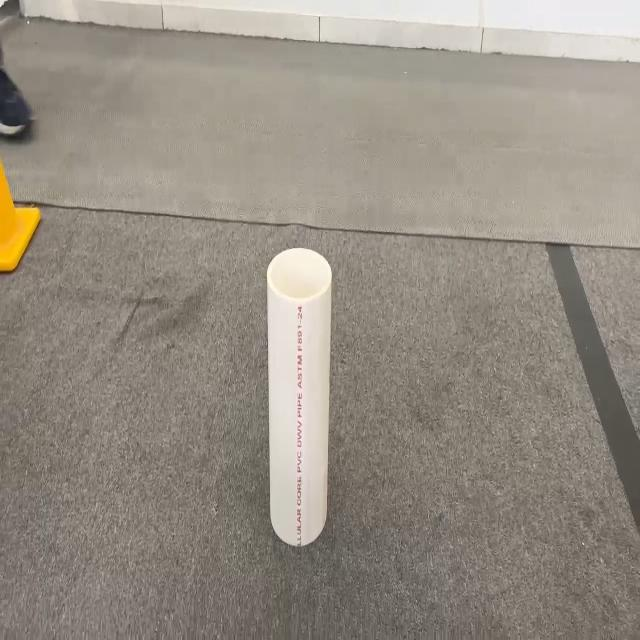coral: (266, 246, 332, 547)
